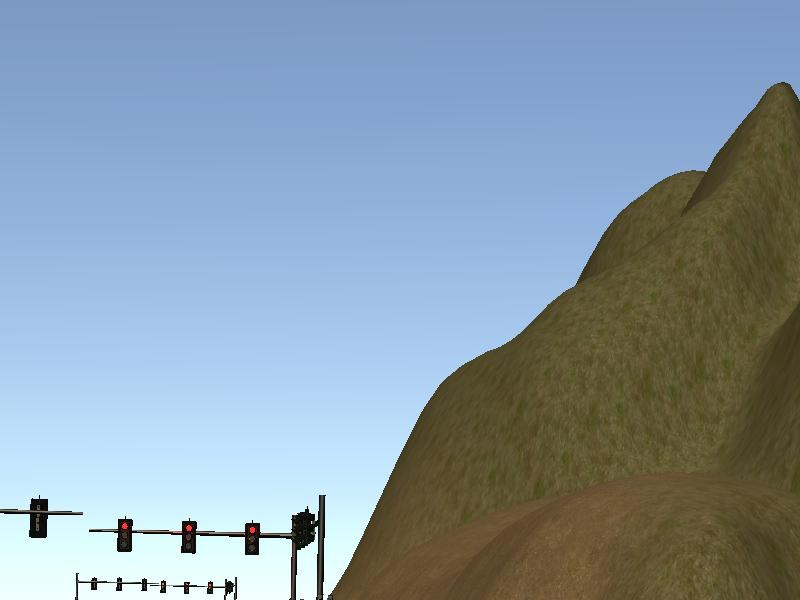Red: (116, 517, 134, 554), (243, 521, 260, 555), (180, 519, 197, 553)
